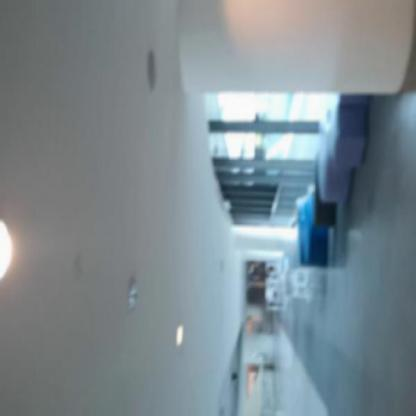light_on: (0, 215, 22, 287), (164, 313, 197, 360)
